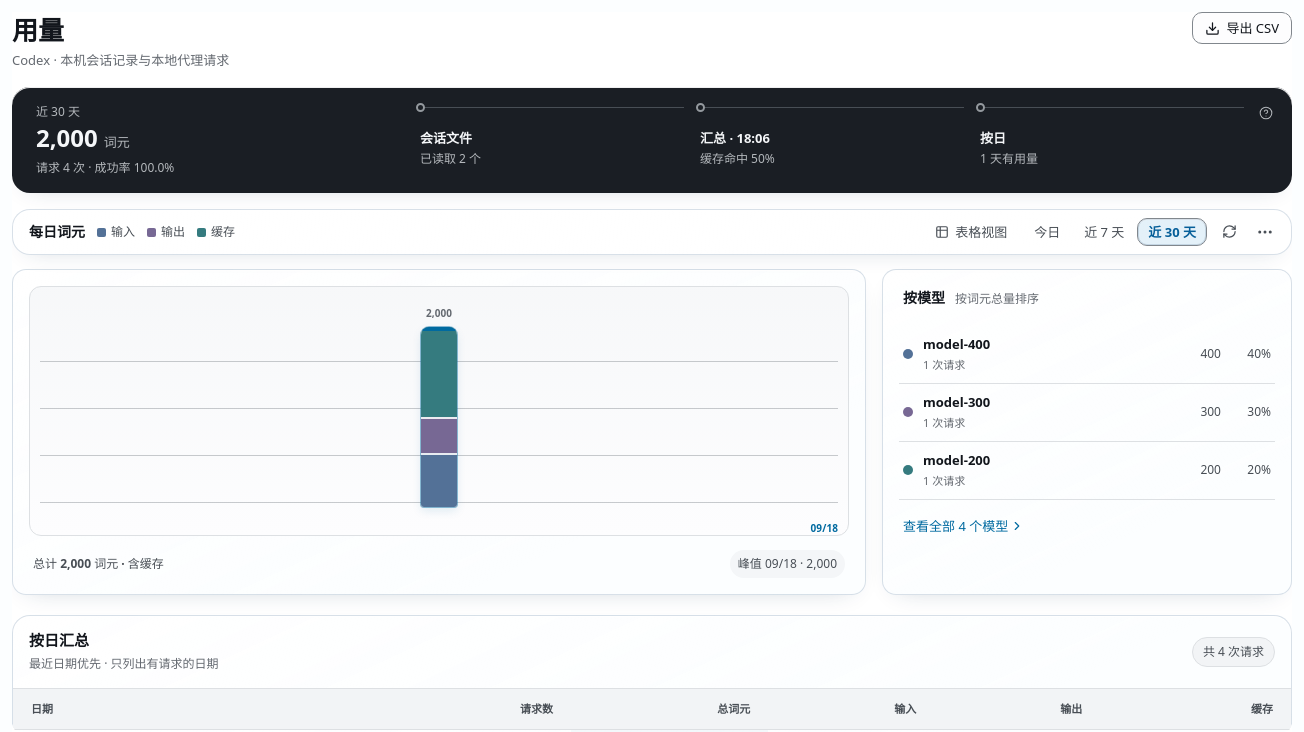
UsageView › ignores a stale request that later resolves
This screenshot has width=1304, height=732.
Expected: the button named "刷新用量" is enabled, [1213,216,1245,248]
Click the button "近 7 天": (1104,232) [1073,218,1135,246]
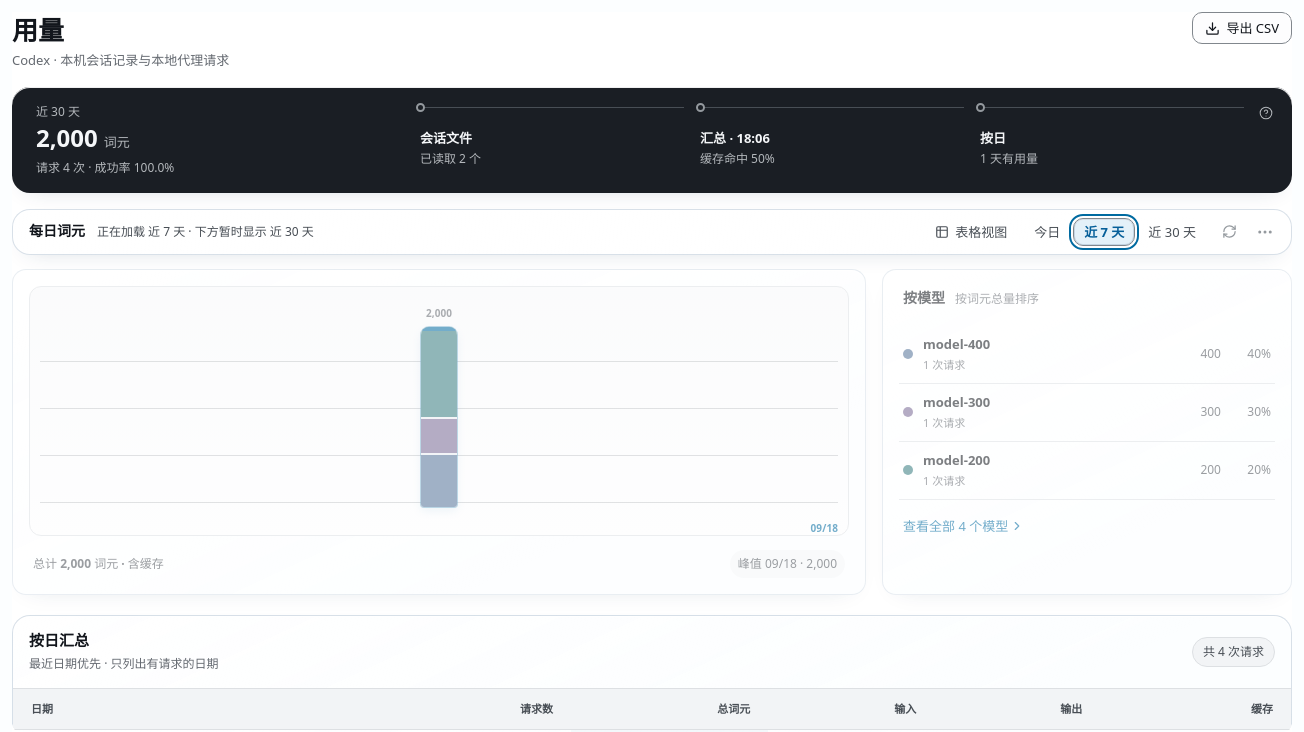
Click the button "今日": (1047,232) [1023,218,1071,246]
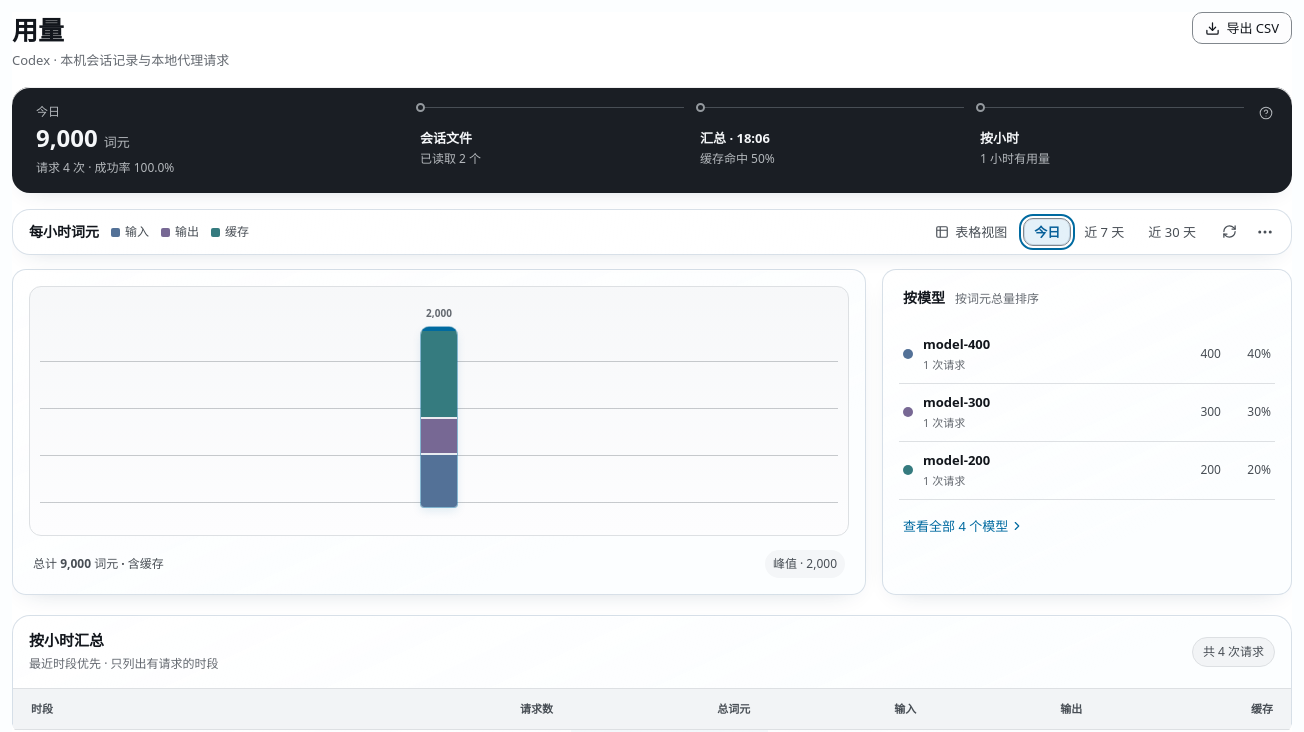
Now the button named "刷新用量" is enabled, box [1213,216,1245,248]
Now the element titled "9,000 词元" is shown, box [36,121,130,154]
Now the message "正在加载 近 7 天 · 下方暂时显示 近 30 天" is gone
